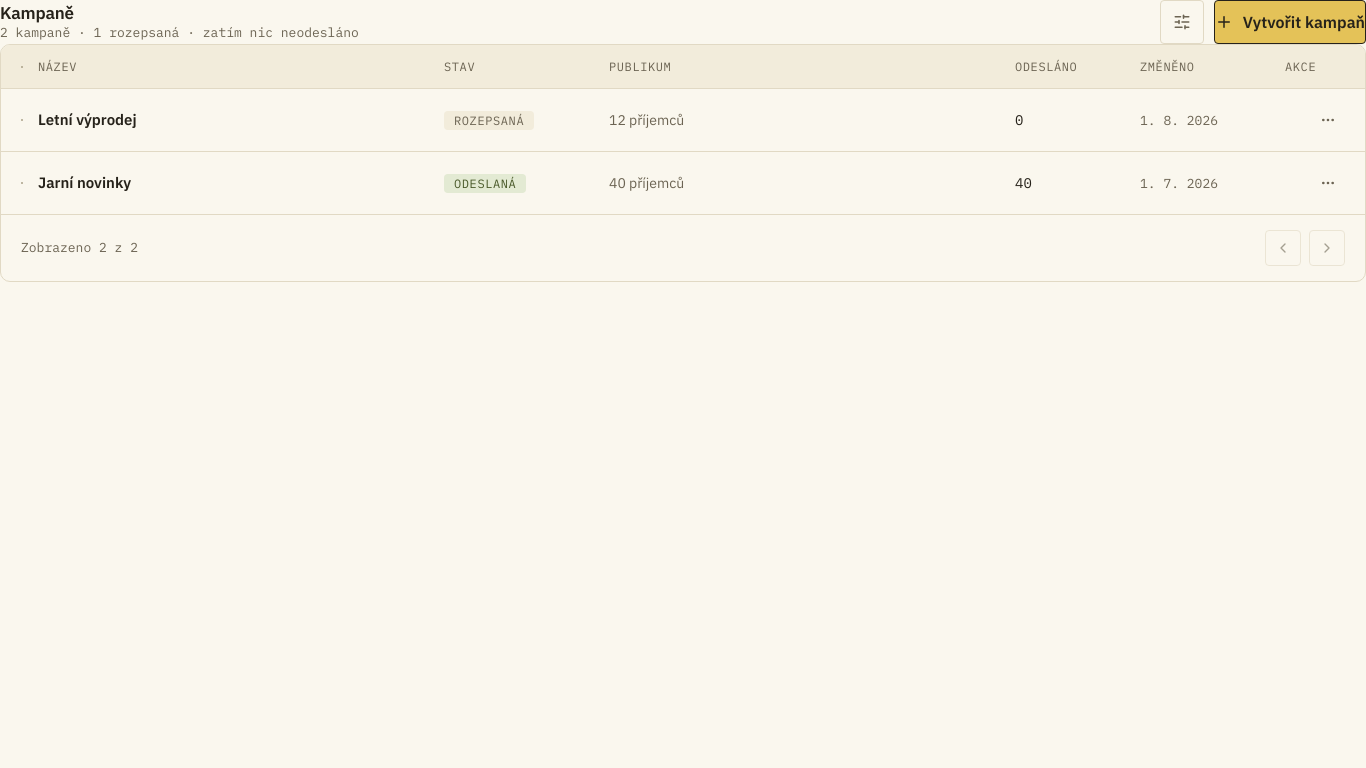
Test: hromadné mazání ze seznamu › tlačítko počítá jen kampaně, které jádro smazat nechá
The image size is (1366, 768).
Click the 1st checkbox named "Označit řádek" at (22, 120), box [21,119,23,121]
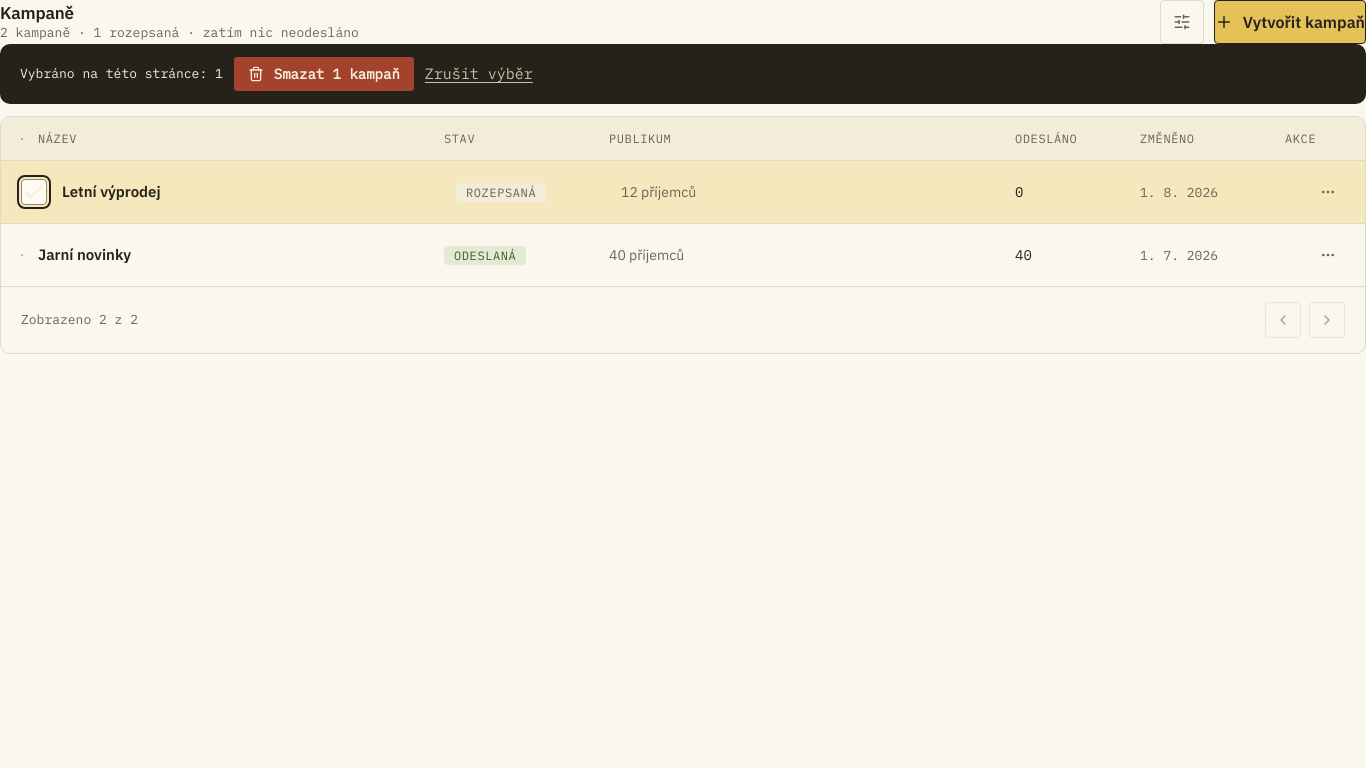
Click the 2nd checkbox named "Označit řádek" at (22, 255), box [21,254,23,256]
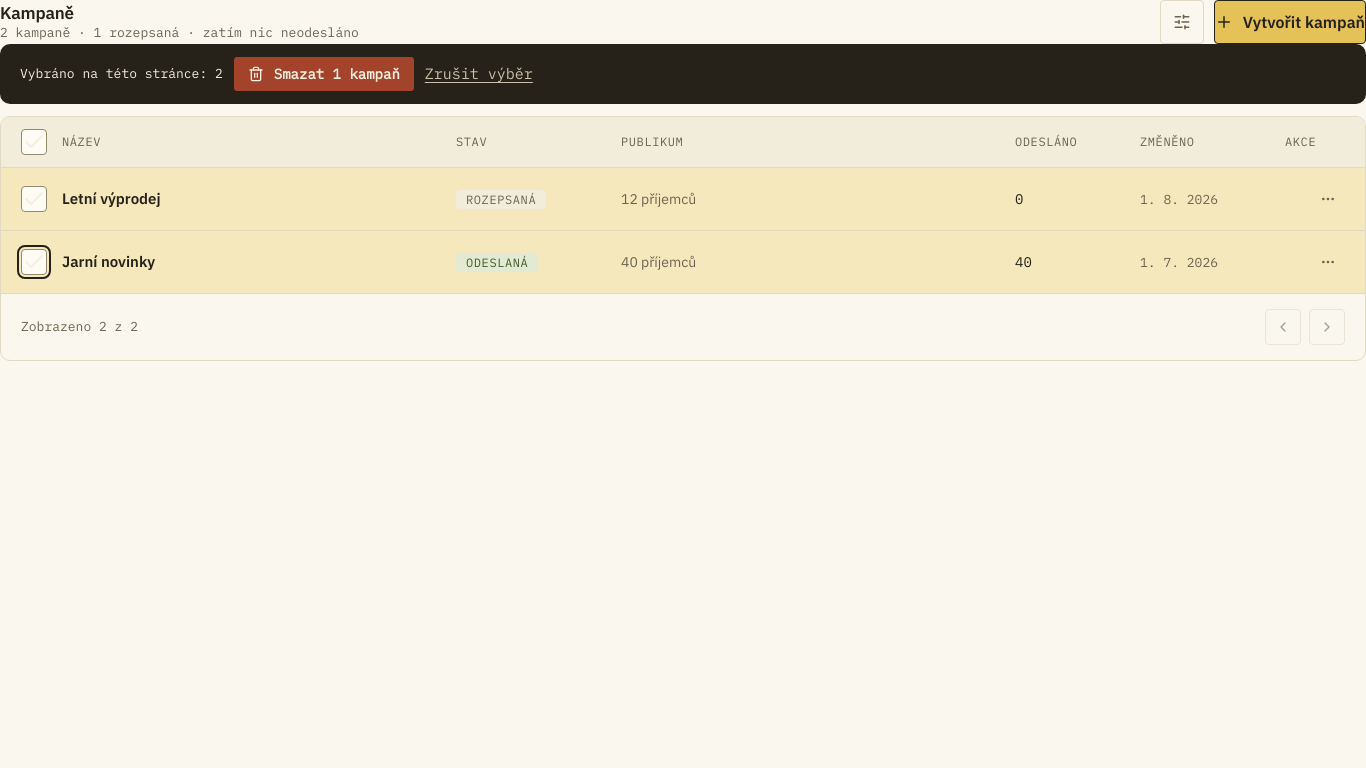
Expected: the button with test id "campaigns-bulk-delete" reads "Smazat 1 kampaň"
Click the button with test id "campaigns-bulk-delete" at (324, 74), box [233,56,415,92]
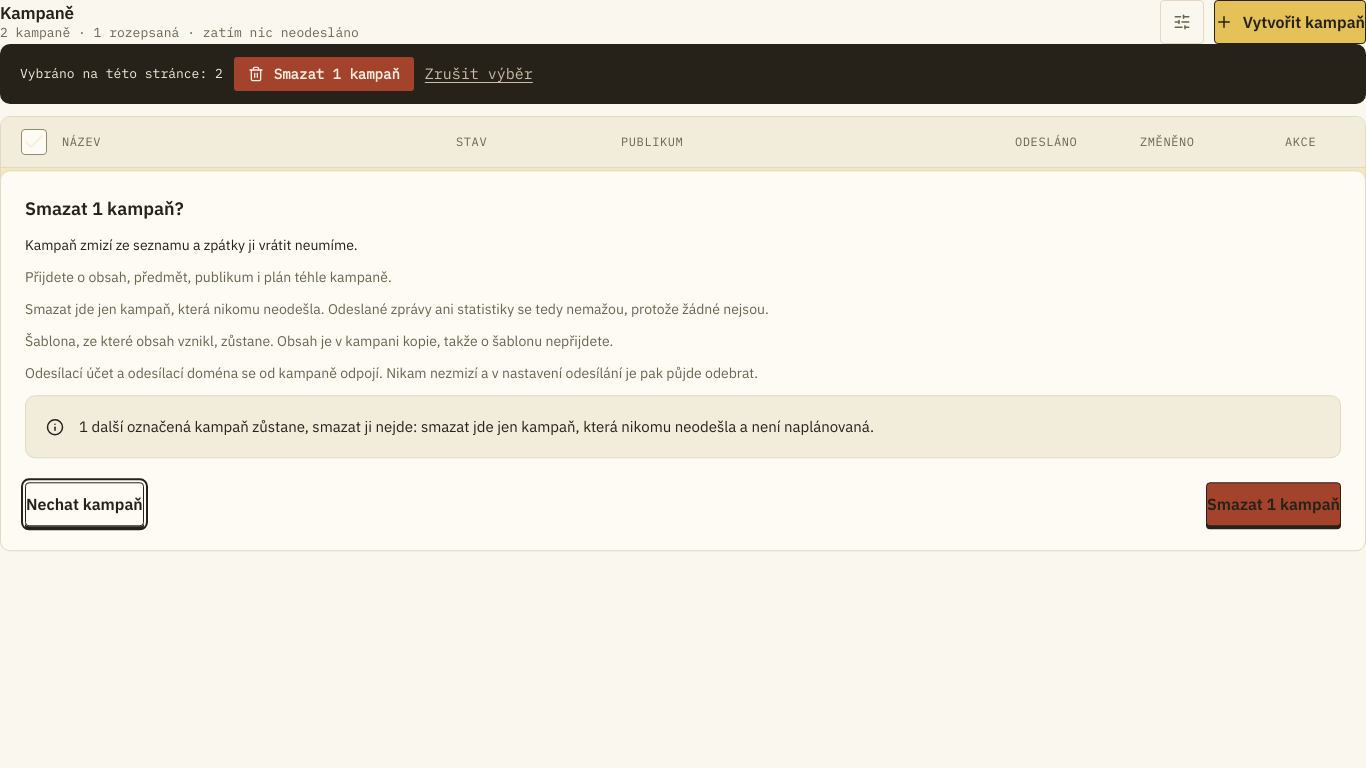
Expected: the element with test id "bulk-delete-campaigns-skipped" shows "1 další označená kampaň zůstane", [79,417,874,436]
